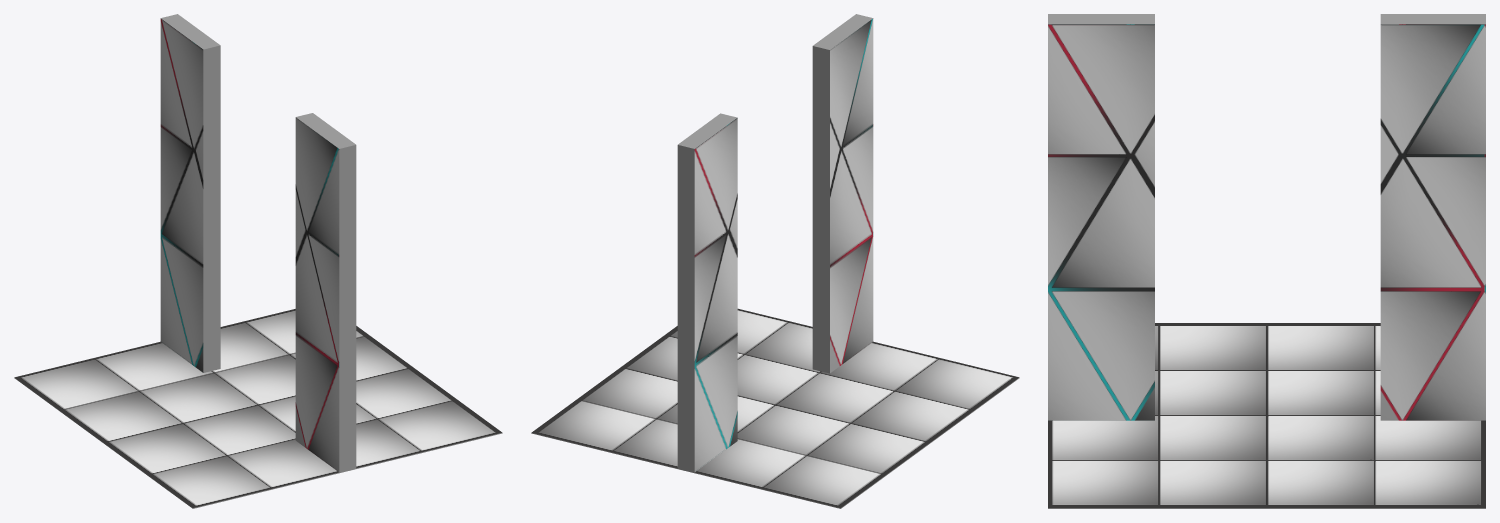
Rendered from doorwaywall.fbx.
3 views of the same model, side by side, from view 1: azimuth 30°, elevation 25°; view 2: azimuth 150°, elevation 25°; view 3: azimuth 270°, elevation 25° (orthographic). The views are drawn at different scales.
Parts seen in each view (by area): view 1: Door; view 2: Door; view 3: Door.
Boxes of the visible parts, x1,y1,x2,y2 form: Door: [14, 14, 502, 508]; Door: [531, 14, 1019, 508]; Door: [1048, 14, 1485, 508].
Bounding box in the file's own units: 2 × 2 × 2.
